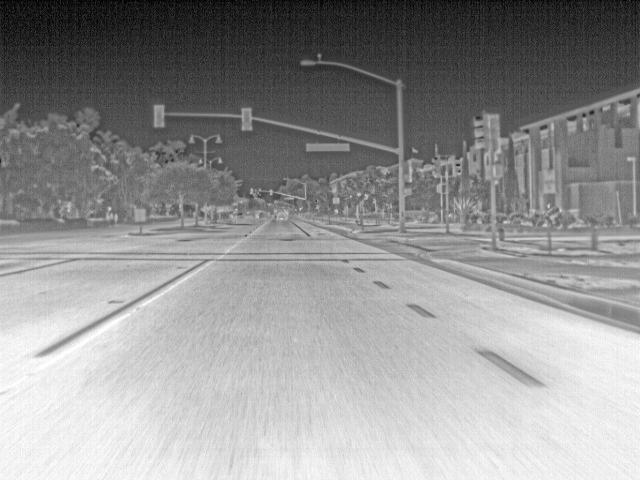car: (275, 211, 288, 221), (256, 209, 264, 219), (237, 211, 244, 220)
person: (545, 200, 560, 216), (104, 205, 113, 227)
